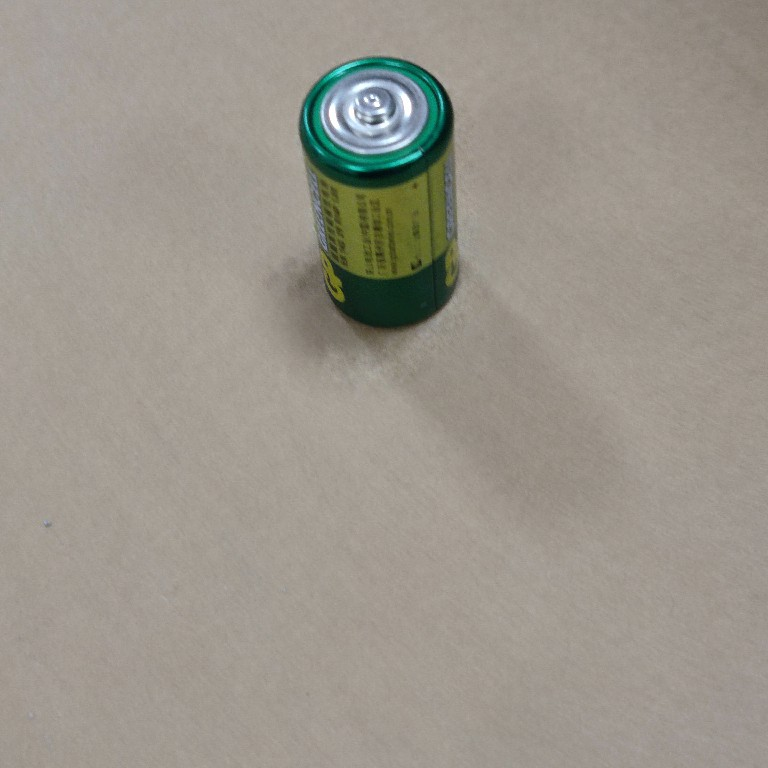charge: (295, 50, 467, 332)
